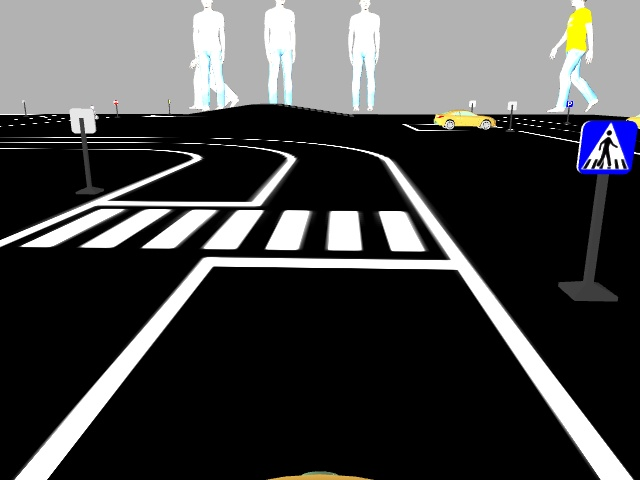Crosswalk: (576, 120, 638, 175)
